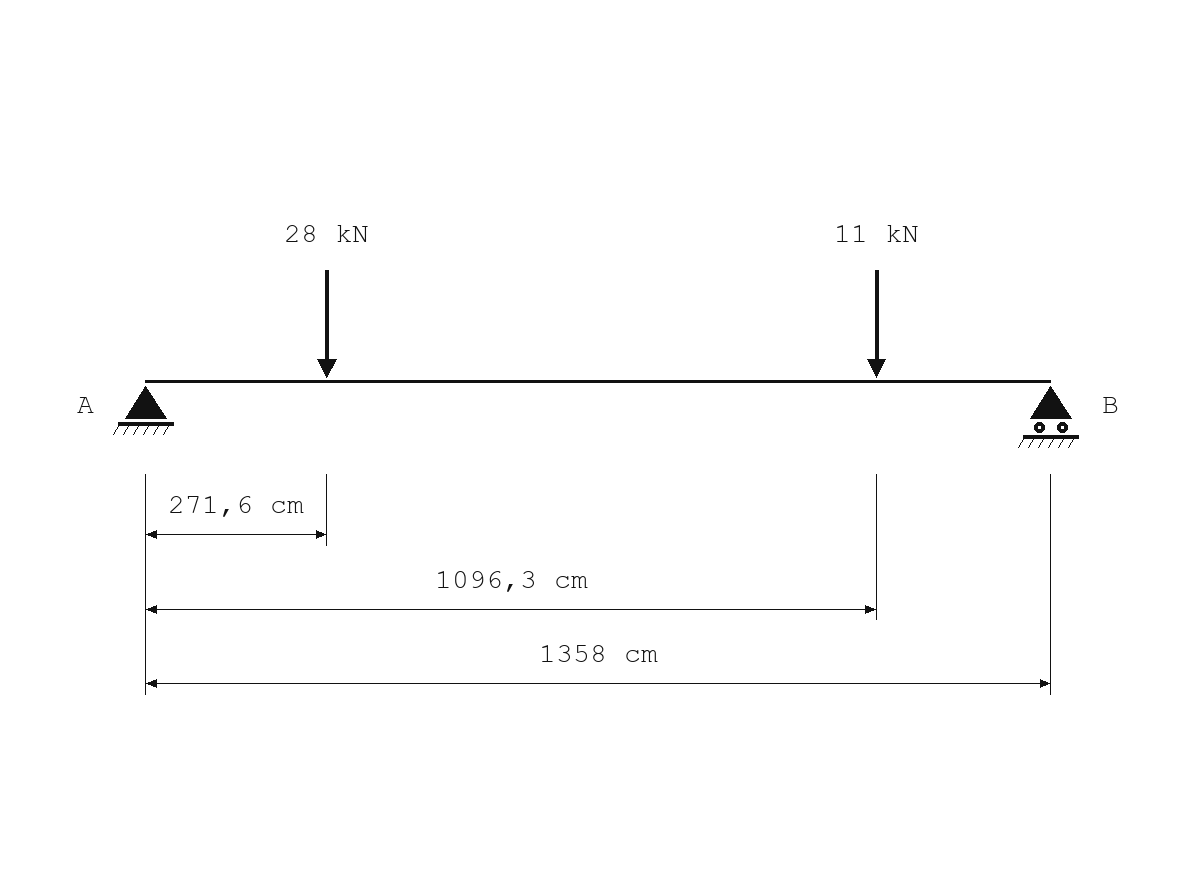pin_support: (113, 386, 174, 435)
point_load: (317, 270, 337, 378), (867, 270, 886, 378)
roller_support: (1018, 386, 1079, 448)
